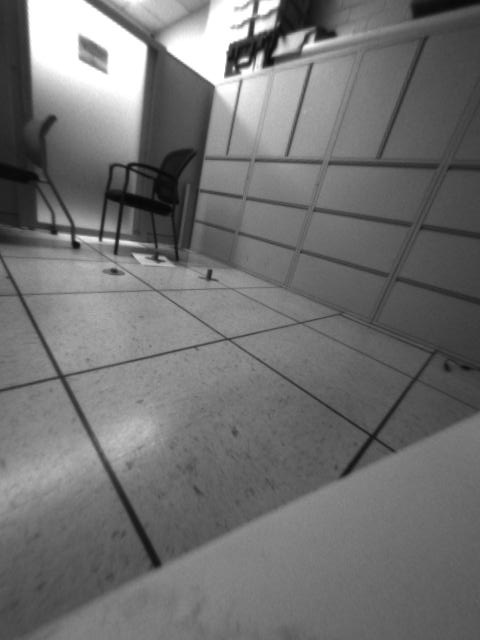X: (195, 267, 218, 283), (140, 249, 165, 263)
